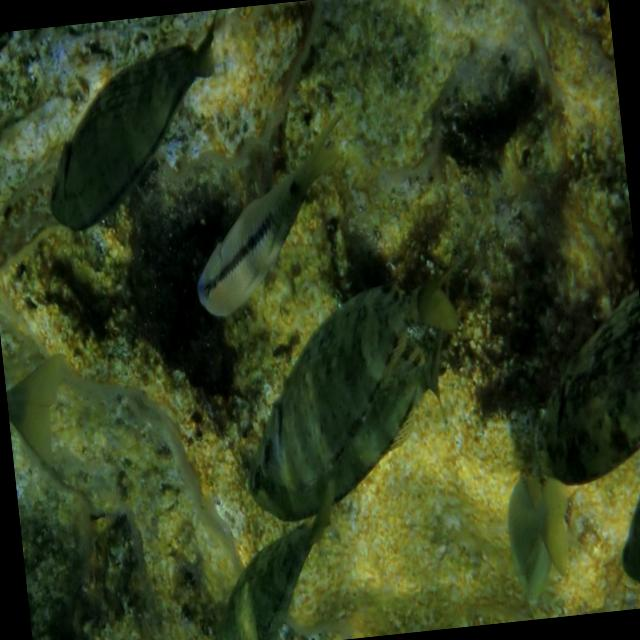Sokar Baligi: (14, 9, 244, 252)
